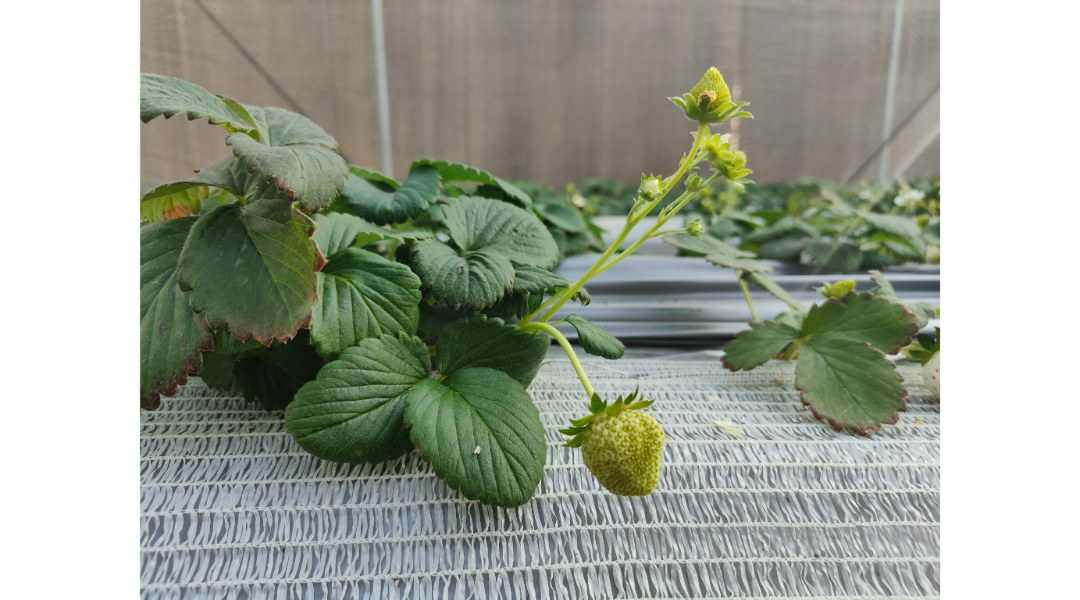berry: (559, 395, 668, 507), (661, 62, 743, 132), (719, 146, 764, 188), (637, 165, 663, 218), (682, 214, 717, 243), (683, 170, 713, 195)
strain: (530, 319, 599, 401)
